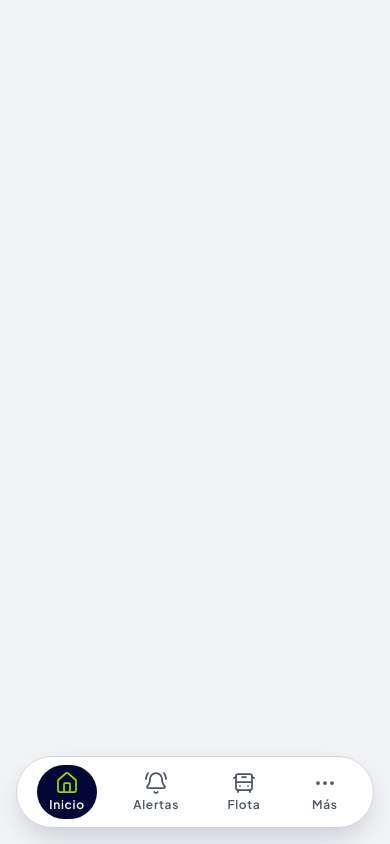
Test: NavegacionPrincipal › enlaza la cuenta desde el nombre y muestra el cierre de sesión en ambas formas
Con pocos destinos, "Más" aparece igual para llegar a la cuenta en móvil.
Click the button "Más": click(325, 792) [297,765,353,819]
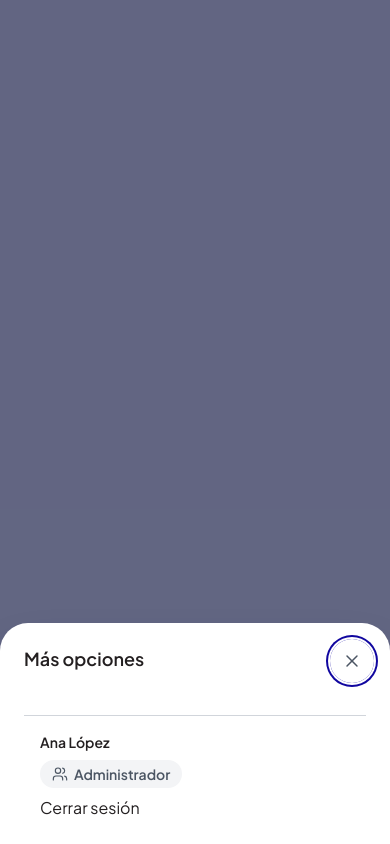
Result: the link named "Ana López, mi cuenta" is shown at [40,732,110,752]
Result: the button "Cerrar sesión" is shown at [40,796,140,820]
